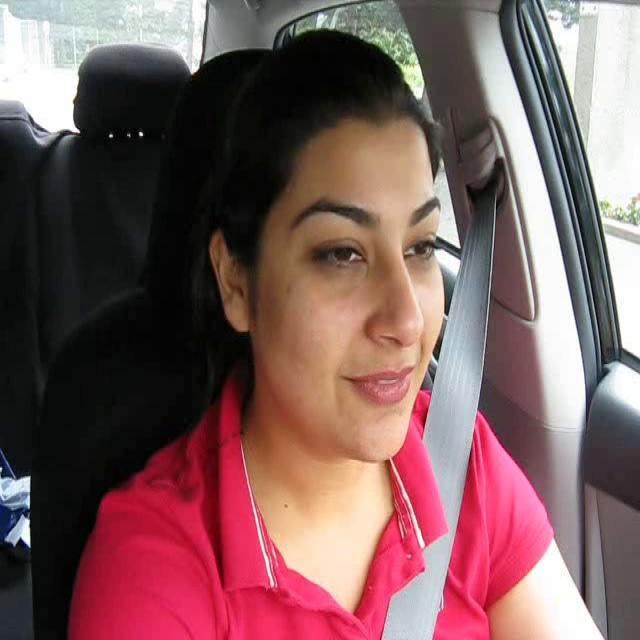close: (338, 363, 416, 408)
